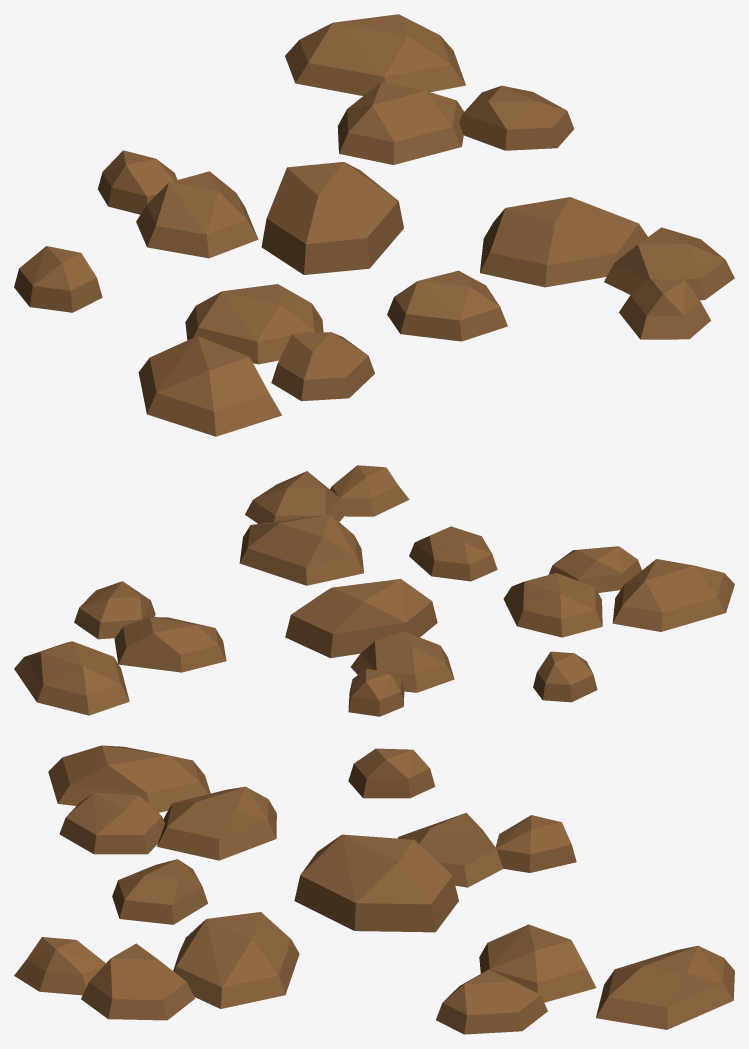
Rendered from rock__pebbles3_dirt_medium.glb.
3 views of the same model, one above another, from view 1: azimuth 30°, elevation 25°; view 2: azimuth 150°, elevation 25°; view 3: azimuth 270°, elevation 25° (orthographic). The views are drawn at different scales.
Parts seen in each view (by area): view 1: pebbles3.dirt.medium; view 2: pebbles3.dirt.medium; view 3: pebbles3.dirt.medium.
Boxes of the visible parts, left/top/right/bottom form: pebbles3.dirt.medium: left=14, top=14, right=734, bottom=436; pebbles3.dirt.medium: left=14, top=465, right=734, bottom=716; pebbles3.dirt.medium: left=14, top=745, right=734, bottom=1034.
Size of the model in its own units: 2.31 by 0.2169 by 2.56.
1 material, 1 textured.
